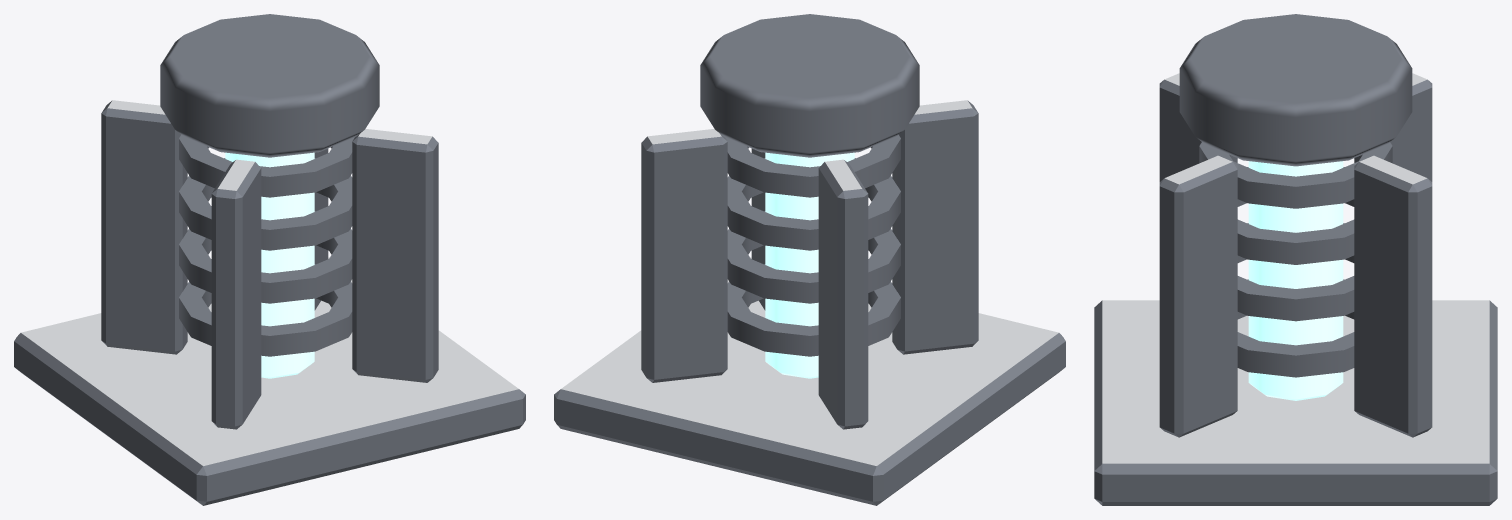
File: R4X_EnergyRegenerator_LOD1.fbx
3 renders of one model, left to right at view 1: azimuth 30°, elevation 25°; view 2: azimuth 150°, elevation 25°; view 3: azimuth 270°, elevation 25°, orthographic. The views are drawn at different scales.
Parts seen in each view (by area): view 1: R4X_EnergyRegenerator_LOD1; view 2: R4X_EnergyRegenerator_LOD1; view 3: R4X_EnergyRegenerator_LOD1.
Boxes of the visible parts, bbox=[...] form: R4X_EnergyRegenerator_LOD1: bbox=[14, 14, 525, 505]; R4X_EnergyRegenerator_LOD1: bbox=[554, 14, 1065, 505]; R4X_EnergyRegenerator_LOD1: bbox=[1094, 14, 1497, 505].
Bounding box in the file's own units: 0.52 × 0.52 × 0.52.
